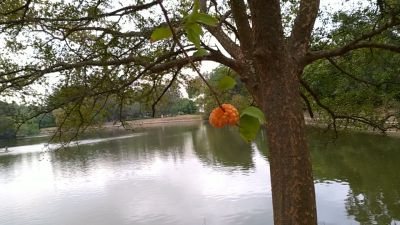eggs: (205, 102, 244, 130)
